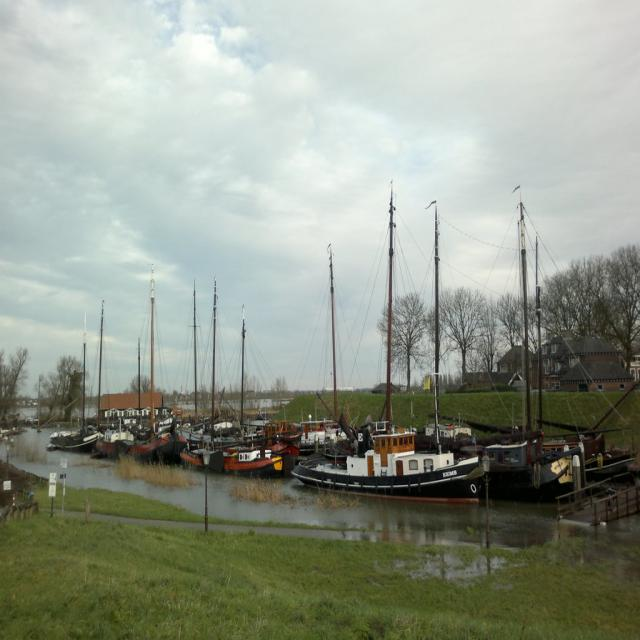Boat: (46, 263, 344, 477), (290, 180, 482, 504), (485, 181, 640, 501)
